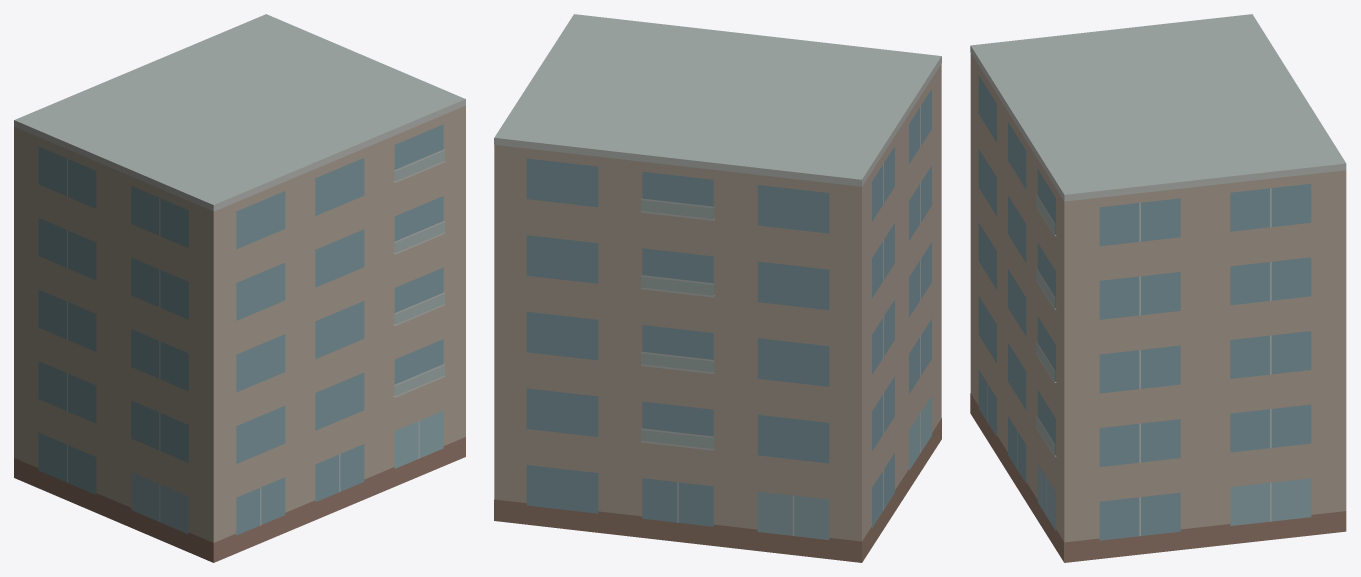
Rendered from survey-upis-32949806.glb.
3 views of the same model, side by side, from view 1: azimuth 30°, elevation 25°; view 2: azimuth 150°, elevation 25°; view 3: azimuth 270°, elevation 25° (orthographic). The views are drawn at different scales.
Visible parts, largest first — view 1: survey-upis-32949806.tmp; view 2: survey-upis-32949806.tmp; view 3: survey-upis-32949806.tmp.
Part boxes in pixels (left/top/right/bottom): survey-upis-32949806.tmp: left=14, top=14, right=465, bottom=562; survey-upis-32949806.tmp: left=494, top=14, right=941, bottom=562; survey-upis-32949806.tmp: left=970, top=14, right=1346, bottom=562.
Bounding box in the file's own units: 14.13 × 13.4 × 12.42.
